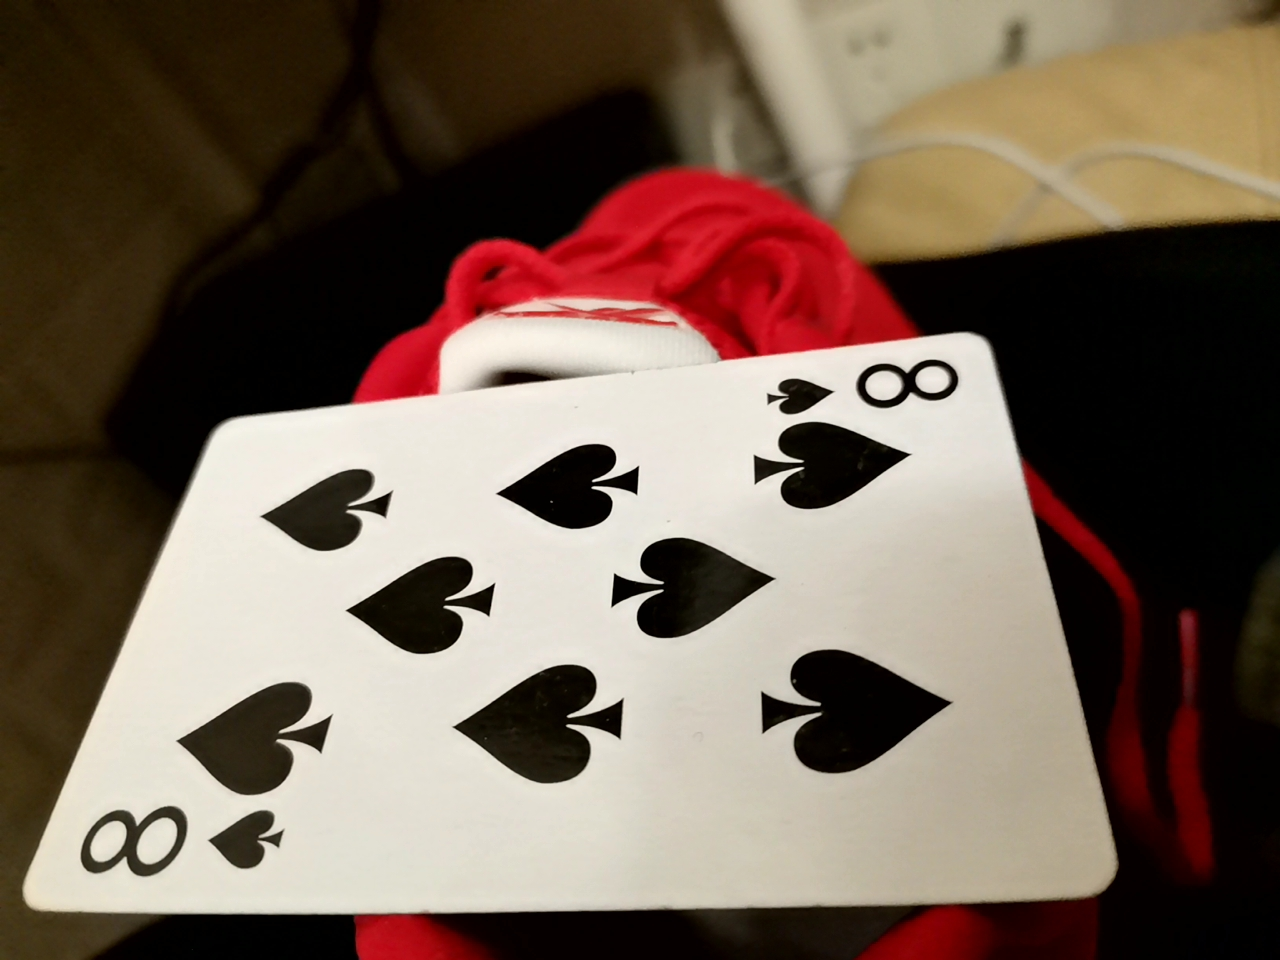ht 8: (17, 328, 1120, 911)
